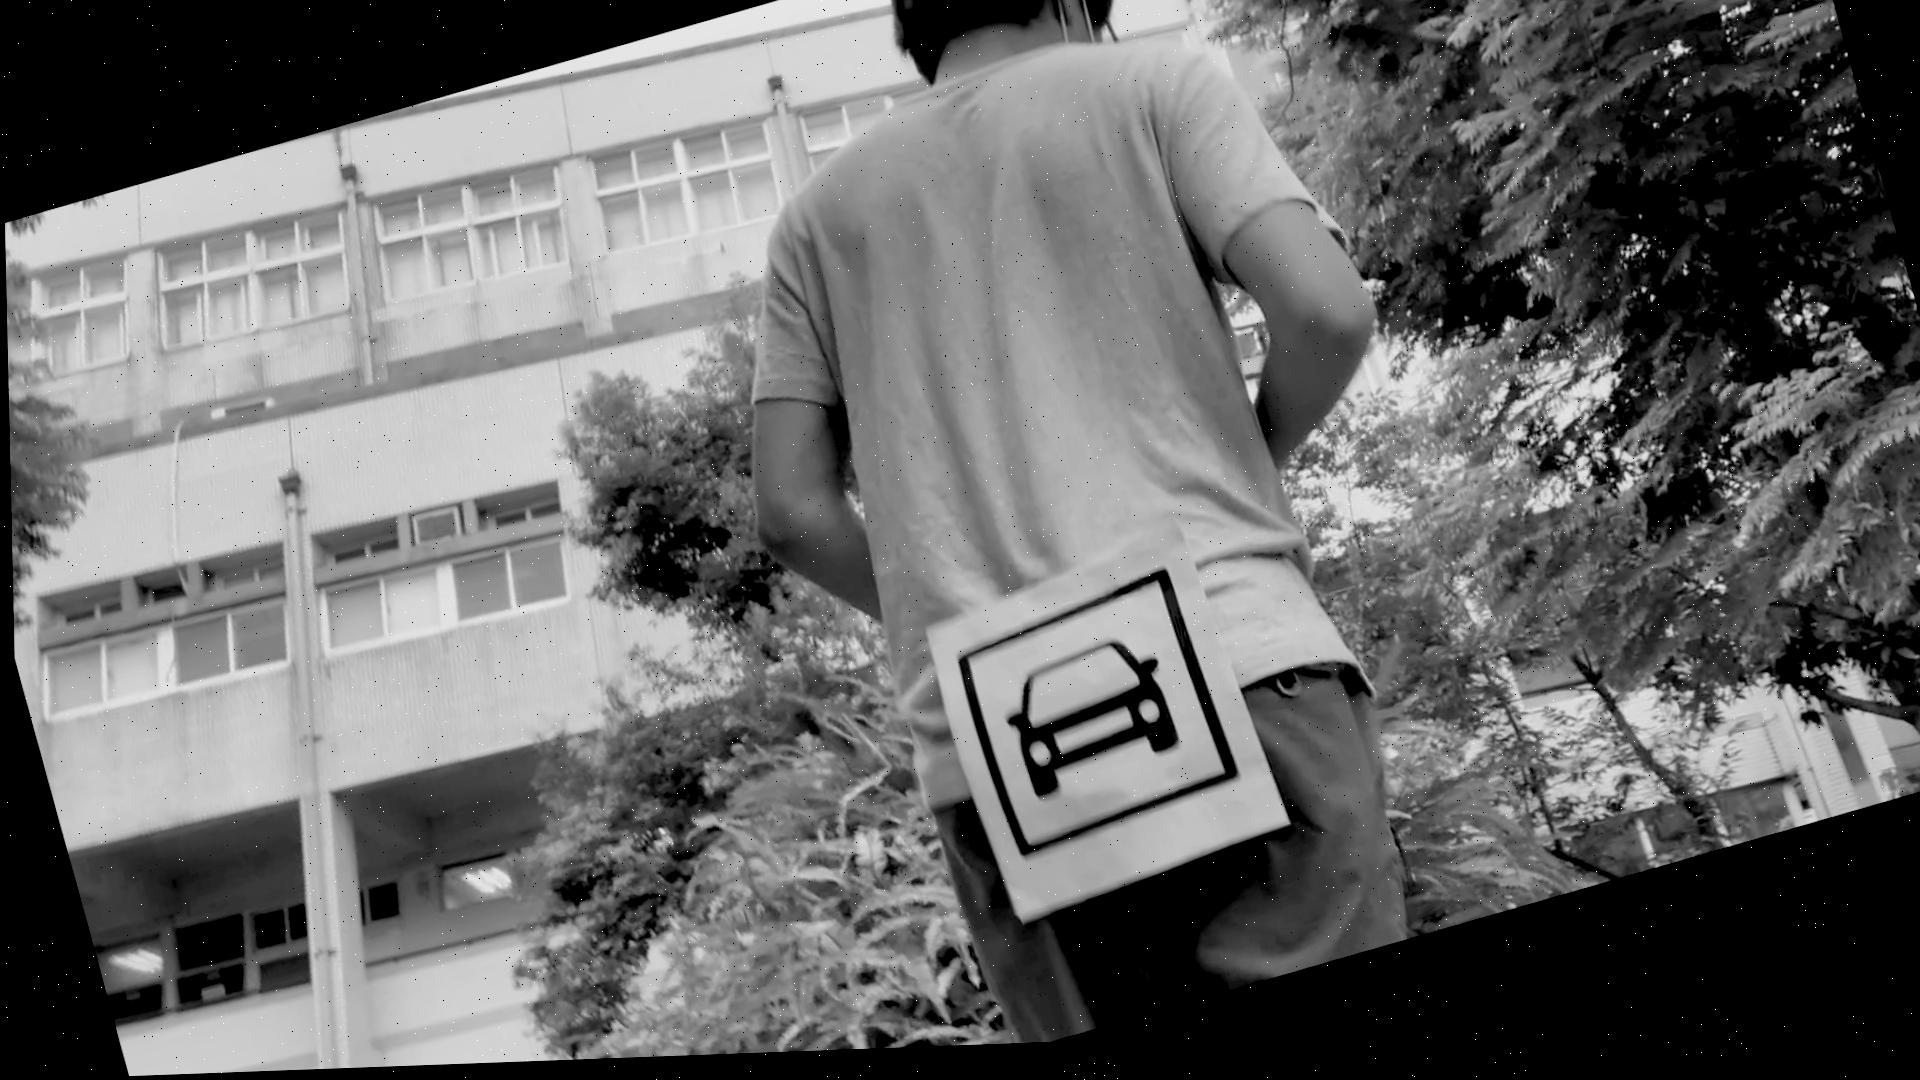car_img: (943, 571, 1244, 870)
